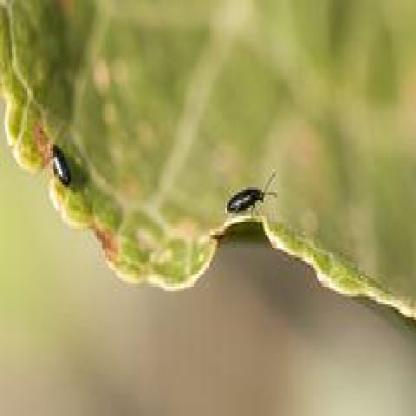beetle: (223, 174, 287, 216), (49, 140, 75, 187)
